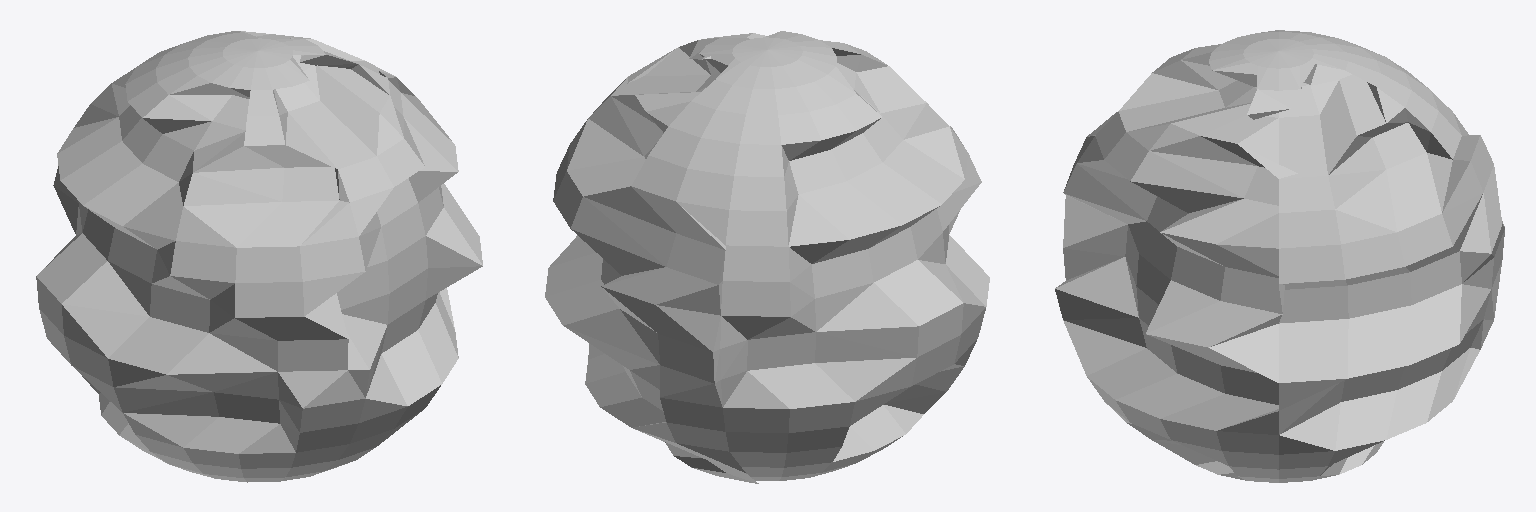
Rendered from asteroid3.obj.
3 views of the same model, side by side, from view 1: azimuth 30°, elevation 25°; view 2: azimuth 150°, elevation 25°; view 3: azimuth 270°, elevation 25° (orthographic).
Parts seen in each view (by area): view 1: pSphere3; view 2: pSphere3; view 3: pSphere3.
Part boxes in pixels (left/top/right/bottom): pSphere3: left=36, top=31, right=482, bottom=482; pSphere3: left=545, top=31, right=989, bottom=483; pSphere3: left=1055, top=30, right=1504, bottom=482.
Size of the model in its own units: 0.2425 by 0.244 by 0.2425.